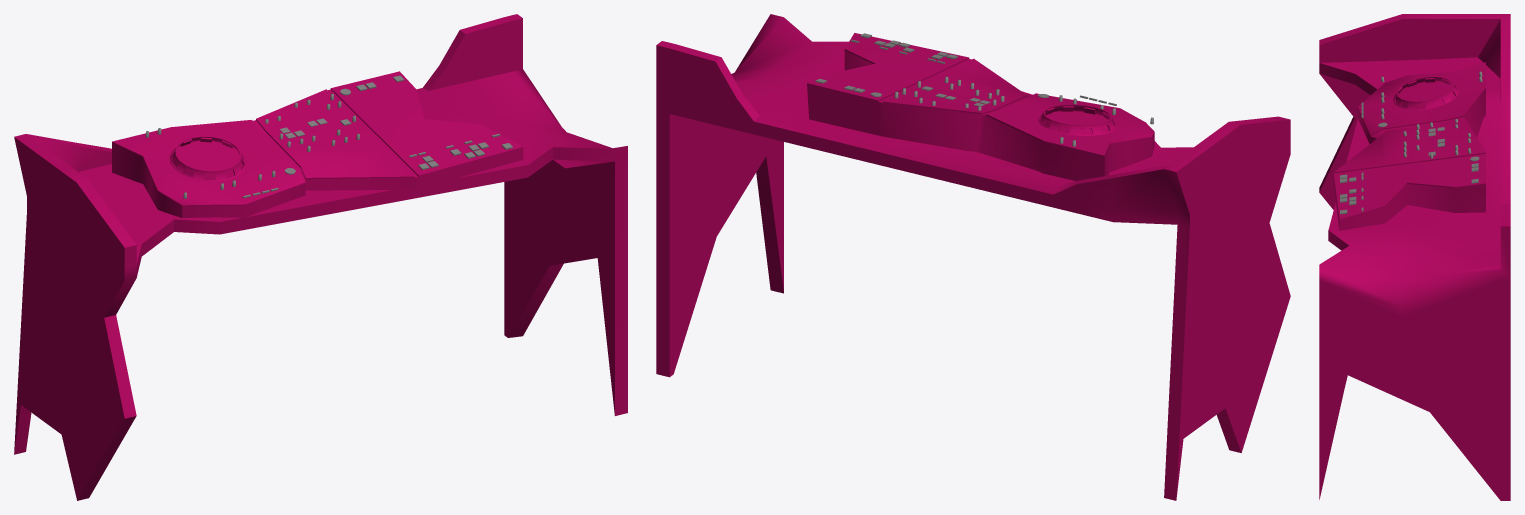
The model's file is Table_DJ_V3.fbx.
The picture shows the model from 3 angles, left to right: view 1: azimuth 30°, elevation 25°; view 2: azimuth 150°, elevation 25°; view 3: azimuth 270°, elevation 25°; orthographic projection. The views are drawn at different scales.
Visible parts, largest first — view 1: Object001; view 2: Object001; view 3: Object001.
Boxes of the visible parts, <box> form: Object001: <box>14,14,627,500</box>; Object001: <box>656,14,1290,500</box>; Object001: <box>1319,14,1510,500</box>.
Size of the model in its own units: 210 by 127 by 80.01.
